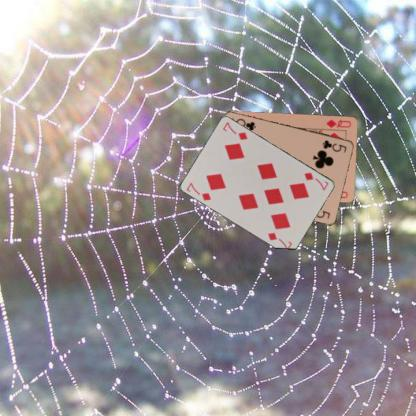5c: (320, 138, 348, 154)
7d: (184, 180, 213, 202), (302, 170, 330, 191)
Qd: (324, 117, 352, 129)
